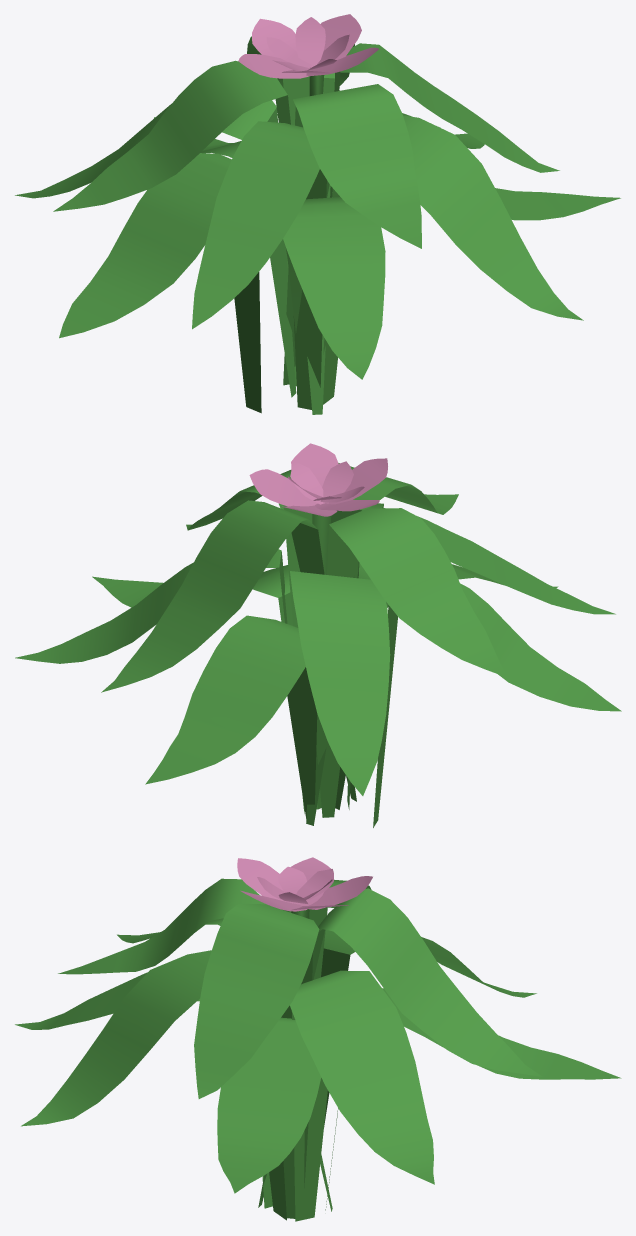
File: plant_dracaena_small_B.fbx
3 views of the same model, one above another, from view 1: azimuth 30°, elevation 25°; view 2: azimuth 150°, elevation 25°; view 3: azimuth 270°, elevation 25° (orthographic). The views are drawn at different scales.
Visible parts, largest first — view 1: plant_dracaena_small_B_leaf_O, plant_dracaena_small_B_leaf_L, plant_dracaena_small_B_leaf_B, plant_dracaena_small_B_leaf_J, plant_dracaena_small_B_leaf_I, plant_dracaena_small_B_leaf_D, plant_dracaena_small_B_leaf_A, plant_dracaena_small_B_leaf_E, plant_dracaena_small_B_flower_big, plant_dracaena_small_B_leaf_K, plant_dracaena_small_B_flower_small, plant_dracaena_small_B_leaf_C; view 2: plant_dracaena_small_B_leaf_E, plant_dracaena_small_B_leaf_M, plant_dracaena_small_B_leaf_D, plant_dracaena_small_B_leaf_C, plant_dracaena_small_B_leaf_L, plant_dracaena_small_B_leaf_F, plant_dracaena_small_B_flower_big, plant_dracaena_small_B_leaf_O, plant_dracaena_small_B_leaf_B, plant_dracaena_small_B_leaf_K, plant_dracaena_small_B_flower_small, plant_dracaena_small_B_leaf_A (+2 smaller); view 3: plant_dracaena_small_B_leaf_F, plant_dracaena_small_B_leaf_A, plant_dracaena_small_B_leaf_C, plant_dracaena_small_B_leaf_K, plant_dracaena_small_B_leaf_I, plant_dracaena_small_B_leaf_B, plant_dracaena_small_B_flower_big, plant_dracaena_small_B_leaf_M, plant_dracaena_small_B_leaf_E, plant_dracaena_small_B_leaf_J, plant_dracaena_small_B_flower_small, plant_dracaena_small_B_leaf_O (+1 smaller).
Part boxes in pixels (box(x1,y1,x2,y2)): plant_dracaena_small_B_leaf_O: box(192, 121, 326, 409); plant_dracaena_small_B_leaf_L: box(59, 153, 261, 413); plant_dracaena_small_B_leaf_B: box(283, 84, 421, 385); plant_dracaena_small_B_leaf_J: box(283, 197, 385, 379); plant_dracaena_small_B_leaf_I: box(323, 115, 583, 404); plant_dracaena_small_B_leaf_D: box(53, 60, 290, 211); plant_dracaena_small_B_leaf_A: box(330, 43, 559, 197); plant_dracaena_small_B_leaf_E: box(15, 100, 296, 397); plant_dracaena_small_B_flower_big: box(238, 14, 378, 78); plant_dracaena_small_B_leaf_K: box(495, 188, 620, 220); plant_dracaena_small_B_flower_small: box(266, 17, 349, 71); plant_dracaena_small_B_leaf_C: box(247, 36, 354, 414); plant_dracaena_small_B_leaf_E: box(290, 571, 390, 817); plant_dracaena_small_B_leaf_M: box(145, 615, 317, 818); plant_dracaena_small_B_leaf_D: box(317, 508, 508, 809); plant_dracaena_small_B_leaf_C: box(101, 500, 356, 801); plant_dracaena_small_B_leaf_L: box(373, 583, 621, 827); plant_dracaena_small_B_leaf_F: box(15, 549, 304, 813); plant_dracaena_small_B_flower_big: box(249, 443, 387, 516); plant_dracaena_small_B_leaf_O: box(347, 508, 615, 809); plant_dracaena_small_B_leaf_B: box(306, 463, 458, 825); plant_dracaena_small_B_leaf_K: box(92, 565, 292, 625); plant_dracaena_small_B_flower_small: box(288, 461, 364, 504); plant_dracaena_small_B_leaf_A: box(186, 470, 317, 809); plant_dracaena_small_B_leaf_F: box(290, 970, 434, 1221); plant_dracaena_small_B_leaf_A: box(194, 903, 319, 1098); plant_dracaena_small_B_leaf_C: box(258, 888, 542, 1207); plant_dracaena_small_B_leaf_K: box(217, 1017, 321, 1218); plant_dracaena_small_B_leaf_I: box(21, 950, 286, 1220); plant_dracaena_small_B_leaf_B: box(58, 878, 332, 1211); plant_dracaena_small_B_flower_big: box(237, 857, 372, 911); plant_dracaena_small_B_leaf_M: box(325, 988, 621, 1210); plant_dracaena_small_B_leaf_E: box(321, 930, 536, 1126); plant_dracaena_small_B_leaf_J: box(15, 972, 200, 1029); plant_dracaena_small_B_flower_small: box(257, 866, 333, 903); plant_dracaena_small_B_leaf_O: box(117, 918, 272, 1208).
Bounding box in the file's own units: 76.13 × 46.93 × 75.71.
